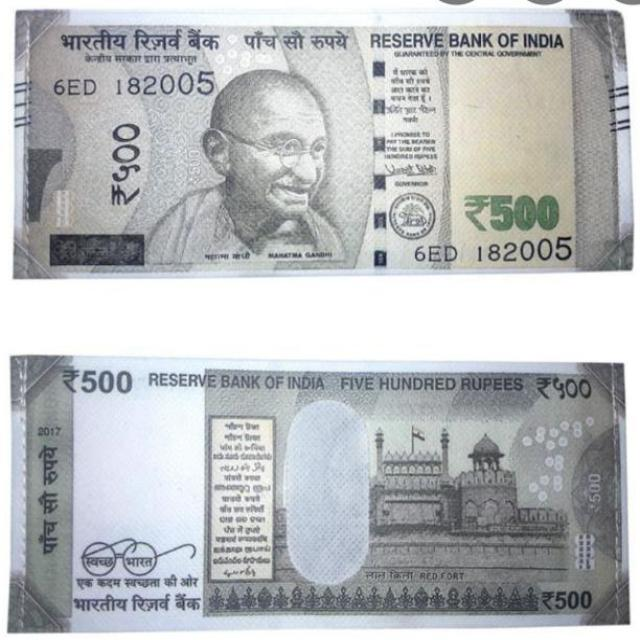500IndianRupees: (9, 353, 632, 629)
